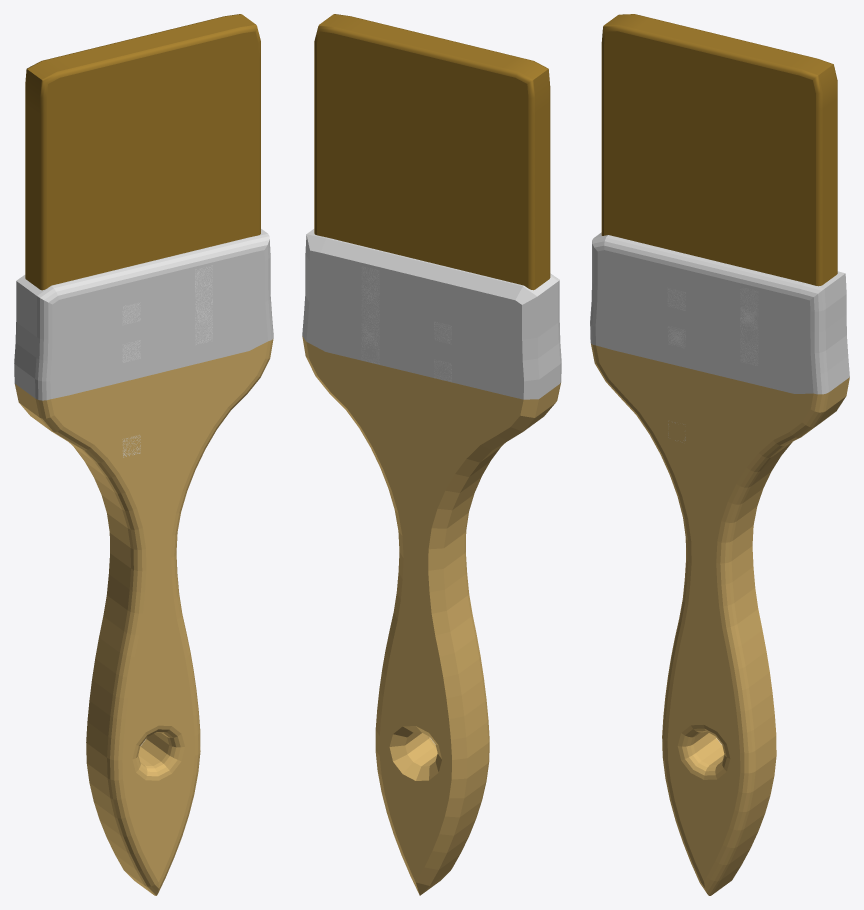
Rendered from Paint Brush.gltf.
3 renders of one model, left to right at view 1: azimuth 30°, elevation 25°; view 2: azimuth 150°, elevation 25°; view 3: azimuth 330°, elevation 25°, orthographic.
Visible parts, largest first — view 1: node-0; view 2: node-0; view 3: node-0.
Part boxes in pixels (x1,y1,x2,y2): node-0: (14,14,273,895); node-0: (302,14,561,895); node-0: (590,14,849,895).
Size of the model in its own units: 68.79 by 234 by 16.13.
